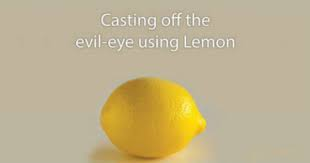lemon: (90, 70, 220, 155)
